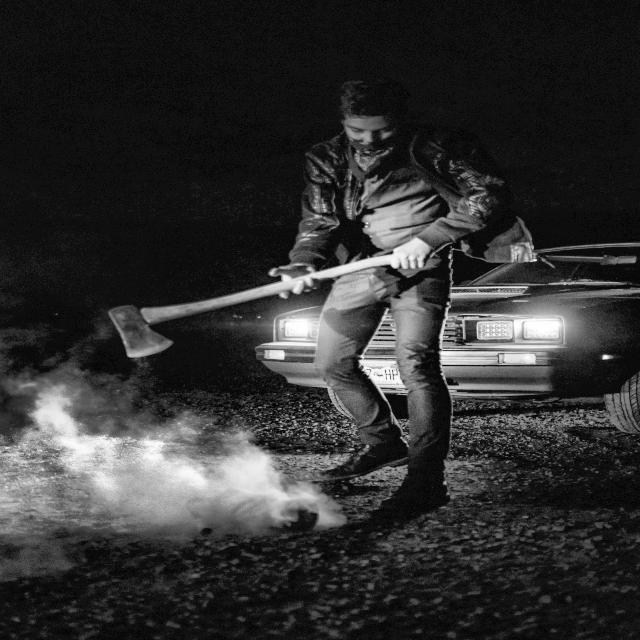kapak: (91, 245, 460, 371)
